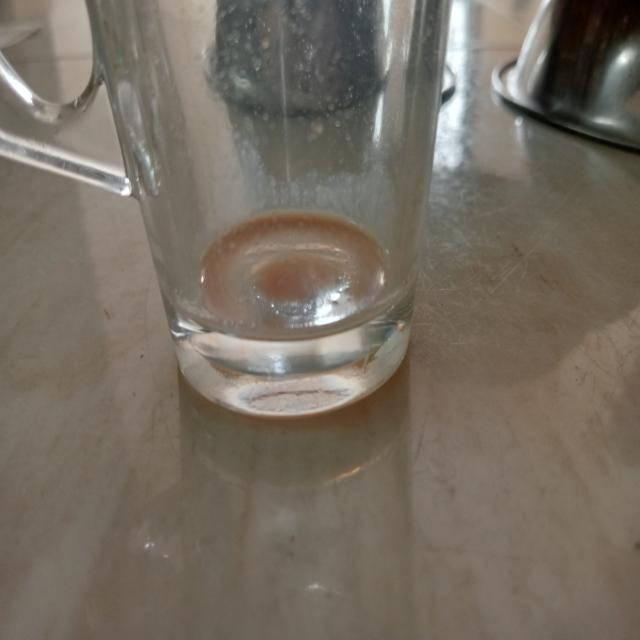glass-VX4N: (81, 0, 452, 419)
